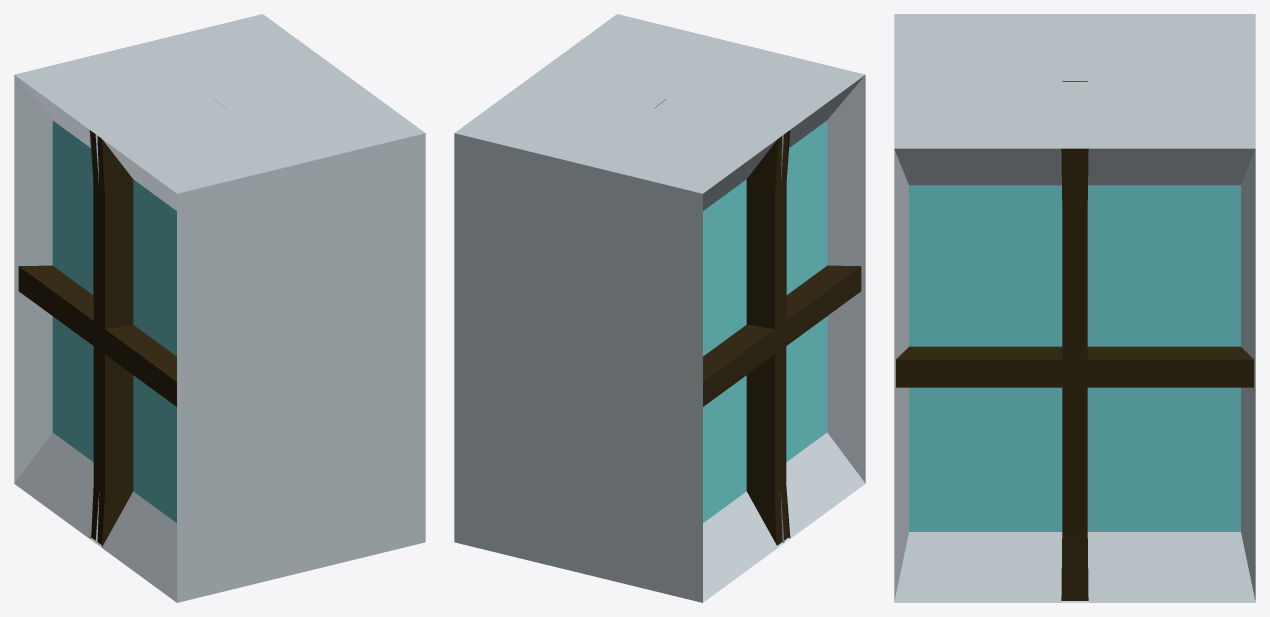
The model's file is window.fbx.
3 renders of one model, left to right at view 1: azimuth 30°, elevation 25°; view 2: azimuth 150°, elevation 25°; view 3: azimuth 270°, elevation 25°, orthographic. The views are drawn at different scales.
Parts seen in each view (by area): view 1: Window; view 2: Window; view 3: Window.
Boxes of the visible parts, <box> form: Window: <box>14,14,425,602</box>; Window: <box>454,14,865,602</box>; Window: <box>894,14,1255,602</box>.
Size of the model in its own units: 192 by 302 by 218.
